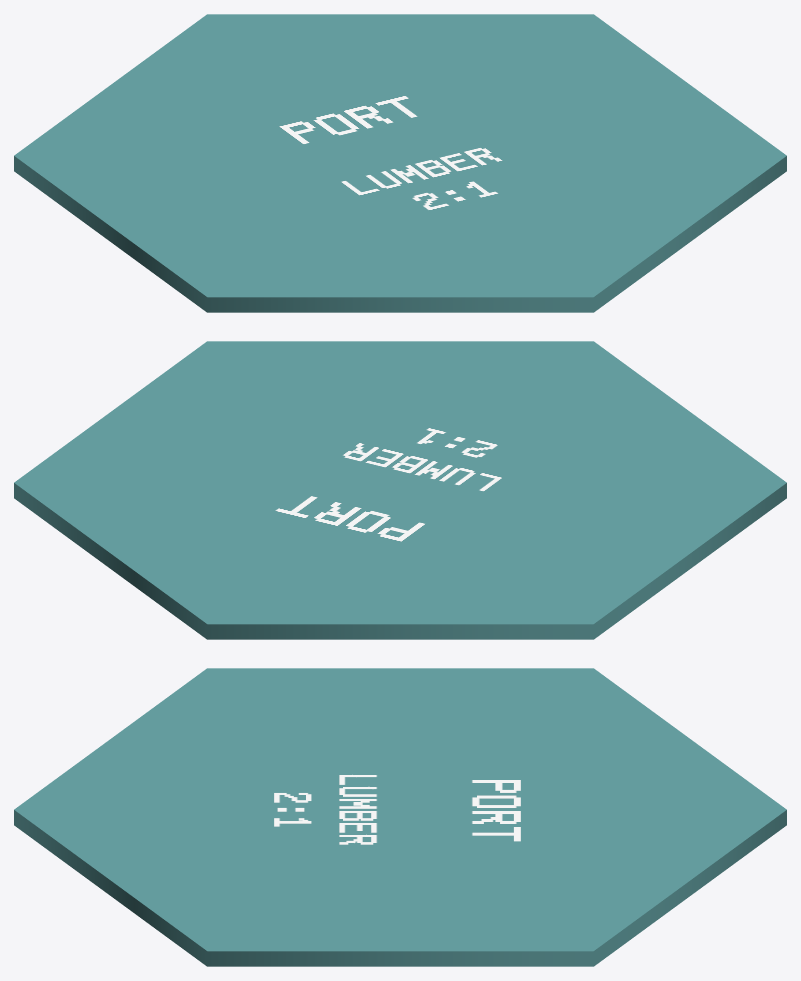
The model's file is harbor-lumber.gltf.
3 views of the same model, one above another, from view 1: azimuth 30°, elevation 25°; view 2: azimuth 150°, elevation 25°; view 3: azimuth 270°, elevation 25° (orthographic).
Size of the model in its own units: 0.0779 by 0.002 by 0.09.
2 materials, 1 textured.
